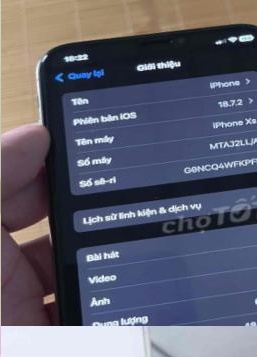scratch: (128, 326, 159, 349)
